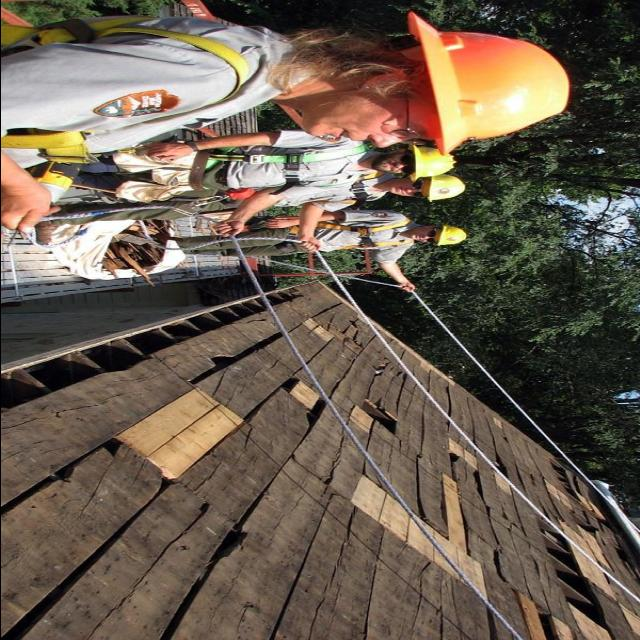helmet: (394, 8, 592, 152), (401, 144, 458, 181), (421, 175, 468, 206), (436, 224, 472, 248)
